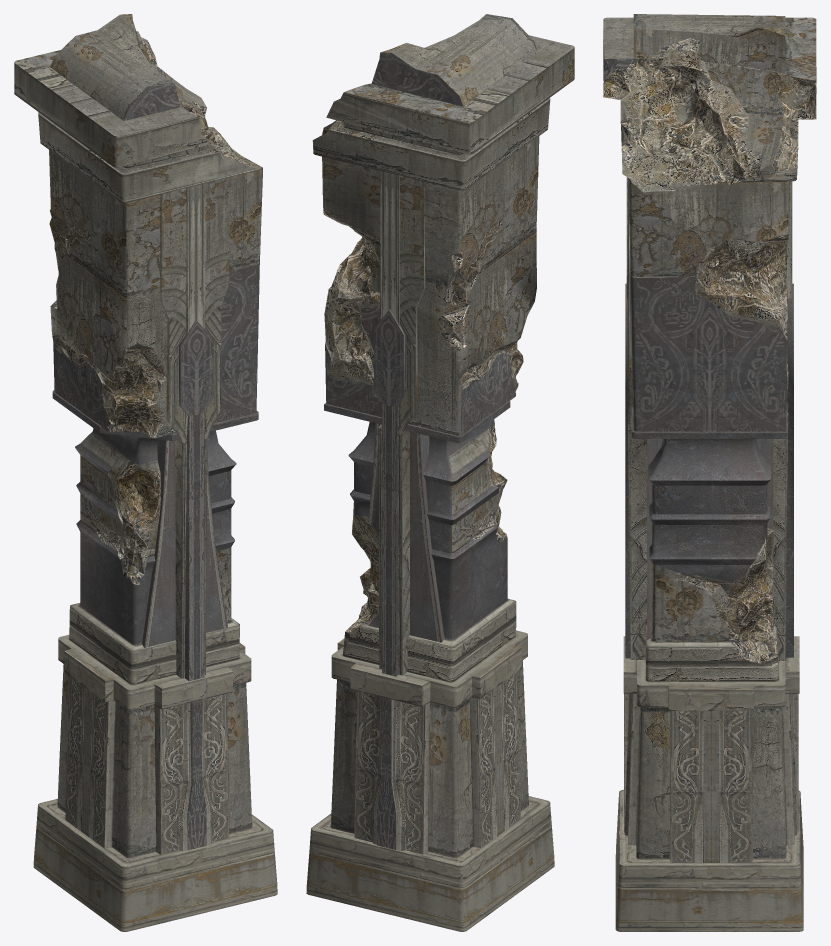
File: Wal5.fbx
3 views of the same model, side by side, from view 1: azimuth 30°, elevation 25°; view 2: azimuth 150°, elevation 25°; view 3: azimuth 270°, elevation 25° (orthographic). The views are drawn at different scales.
Parts seen in each view (by area): view 1: LV_Nigraturis_Ancient_Pillar02_SM_HSH; view 2: LV_Nigraturis_Ancient_Pillar02_SM_HSH; view 3: LV_Nigraturis_Ancient_Pillar02_SM_HSH.
Boxes of the visible parts, bbox=[...] form: LV_Nigraturis_Ancient_Pillar02_SM_HSH: bbox=[14, 14, 277, 931]; LV_Nigraturis_Ancient_Pillar02_SM_HSH: bbox=[306, 14, 574, 931]; LV_Nigraturis_Ancient_Pillar02_SM_HSH: bbox=[603, 14, 816, 931].
Size of the model in its own units: 1.77 by 8.36 by 1.87.
